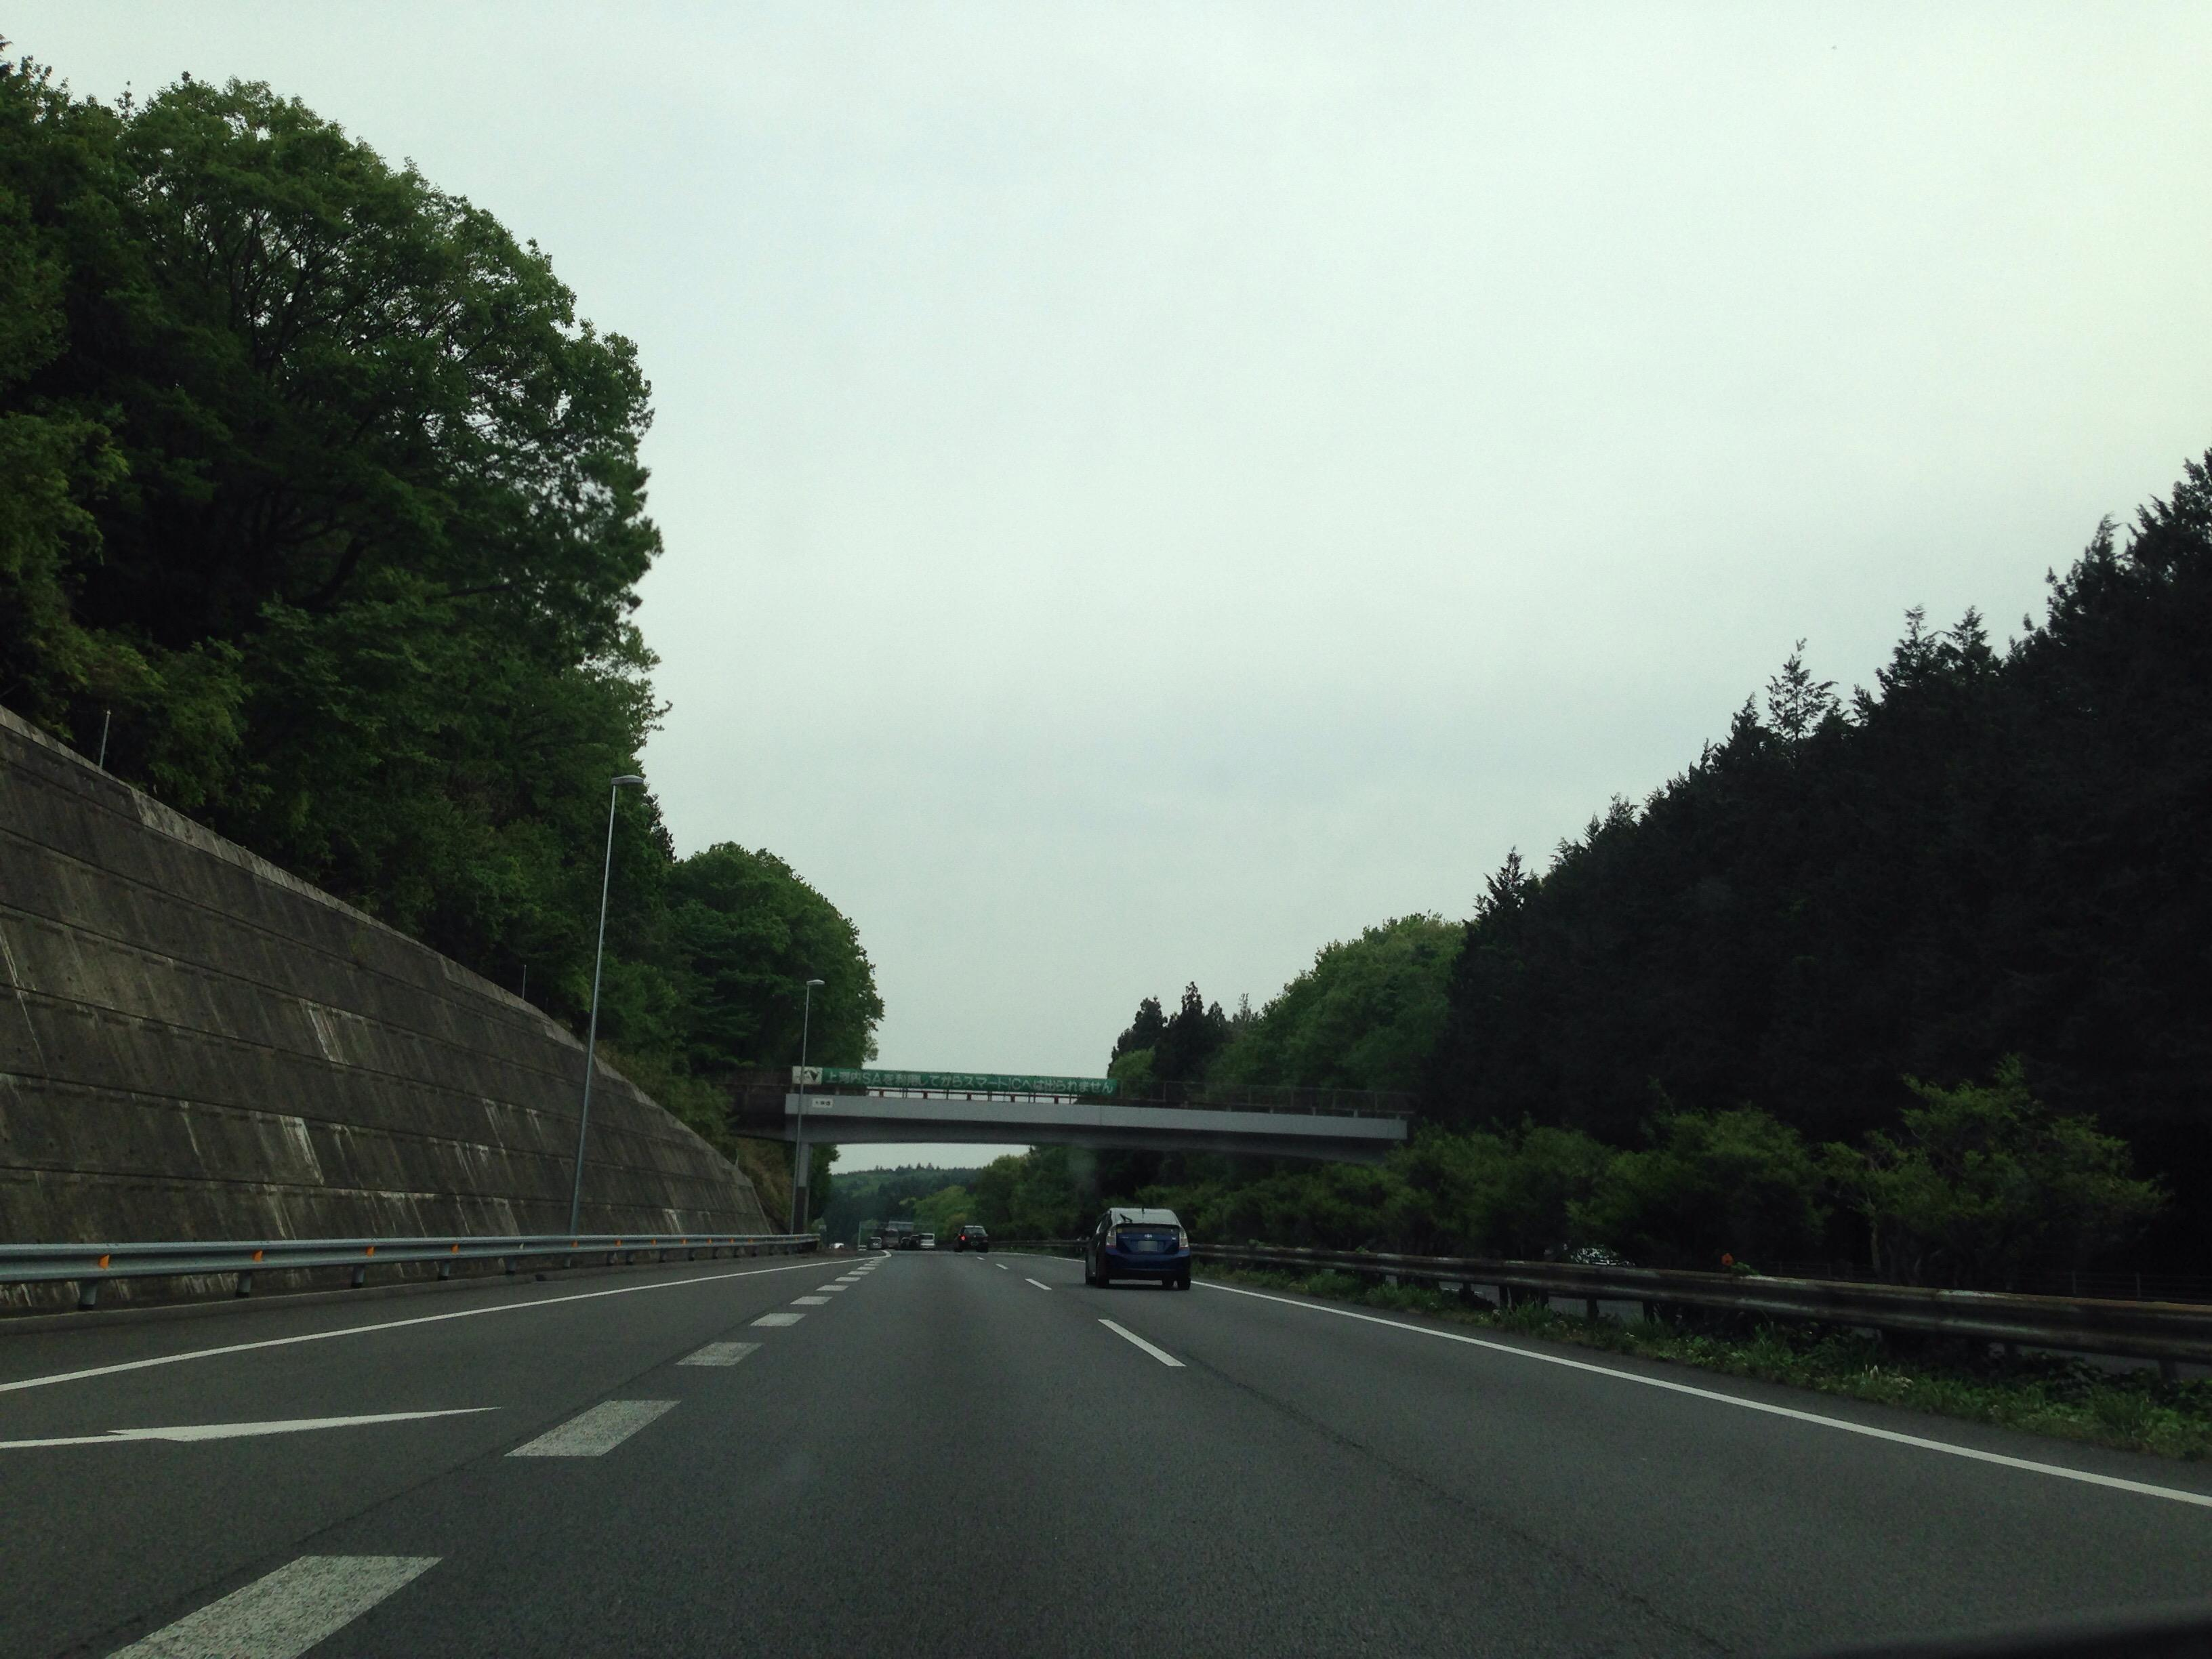vinyl banner: (782, 1053, 1130, 1119)
